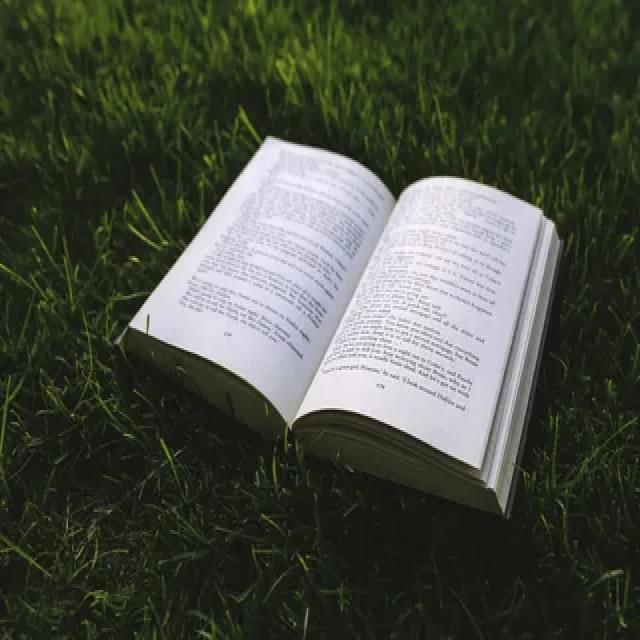book: (101, 113, 567, 531)
